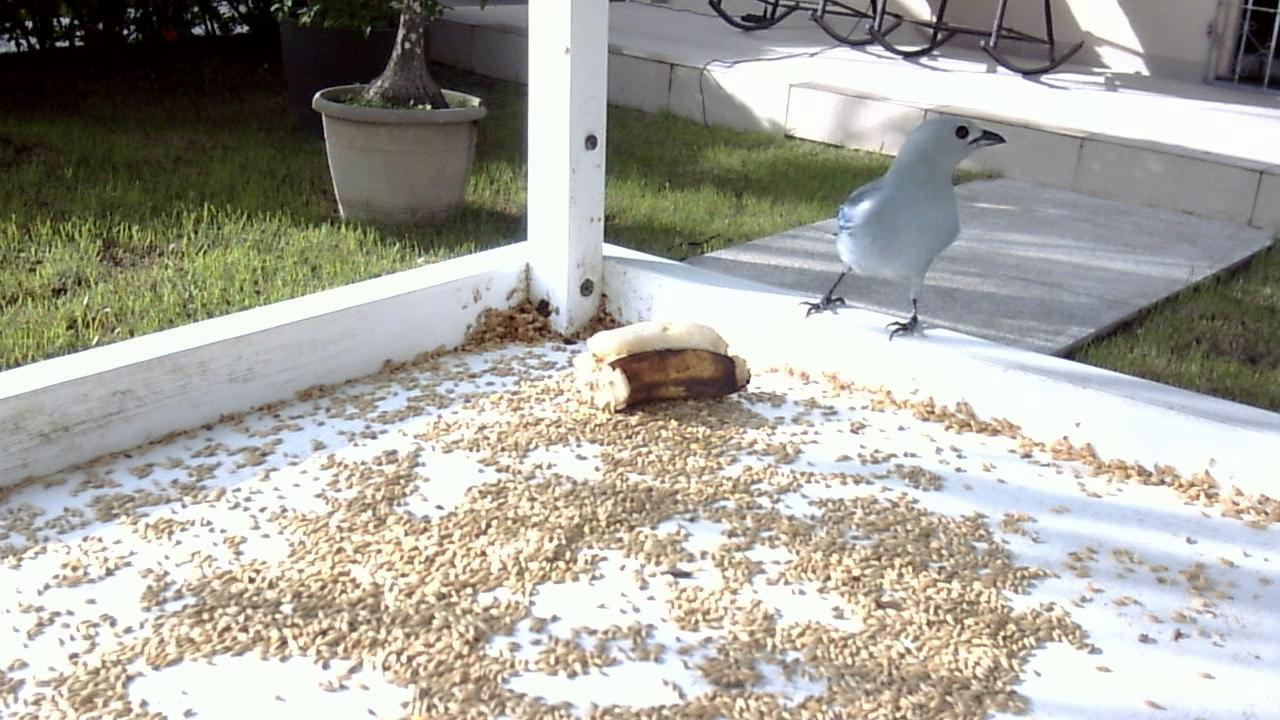sanhaco_da_amazonia: (785, 108, 1015, 354)
